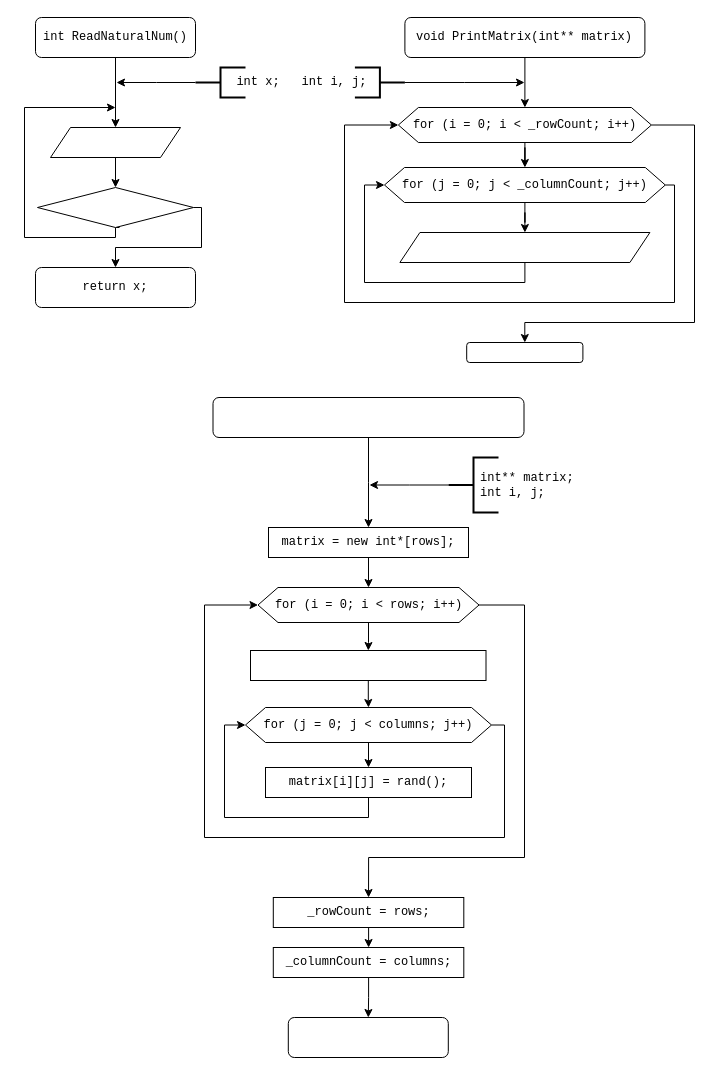
The diagram is 720 pixels wide and 1075 high, and some of its shapes have lost their labels. Here are the shapes that lost their labels. From the top down, the box of each, then its label:
(50, 126, 180, 158): cin >> x;
(36, 186, 194, 228): while (x <= 0)
(399, 232, 650, 262): cout << matrix[i][j] << '\t';
(212, 396, 524, 438): int** NewMatrix(int rows, int columns)
(250, 650, 486, 680): matrix[i] = new int[columns];
(287, 1016, 448, 1058): return matrix;
